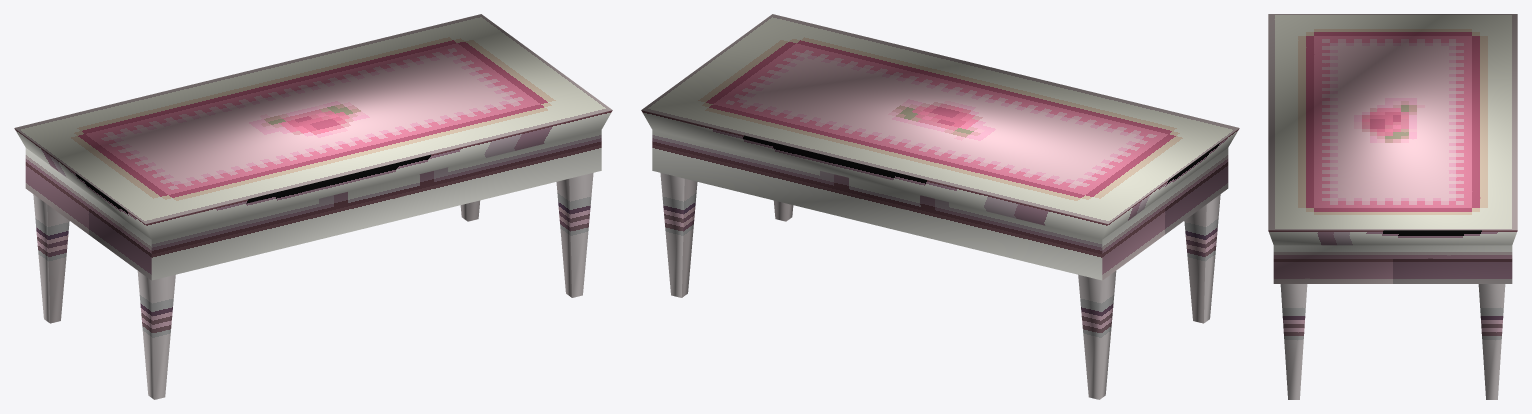
3 views of the same model, side by side, from view 1: azimuth 30°, elevation 25°; view 2: azimuth 150°, elevation 25°; view 3: azimuth 270°, elevation 25° (orthographic). The views are drawn at different scales.
Visible parts, largest first — view 1: 3078IMRL05_06; view 2: 3078IMRL05_06; view 3: 3078IMRL05_06.
Boxes of the visible parts, x1,y1,x2,y2 form: 3078IMRL05_06: (14,14,612,399); 3078IMRL05_06: (641,14,1239,399); 3078IMRL05_06: (1268,14,1517,399).
Size of the model in its own units: 1.95 by 0.7502 by 0.9502.
3 materials, 3 textured.
